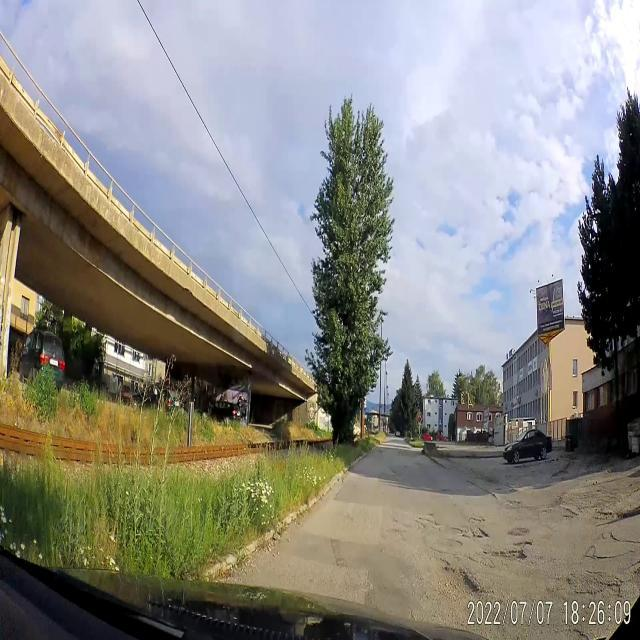Manhole: (507, 524, 529, 544), (440, 534, 460, 552)
Pothole: (560, 562, 622, 594), (436, 556, 483, 598), (466, 544, 532, 570), (408, 506, 447, 539), (464, 508, 490, 542), (557, 500, 584, 522), (590, 506, 622, 524), (501, 496, 526, 512), (372, 448, 386, 454)
